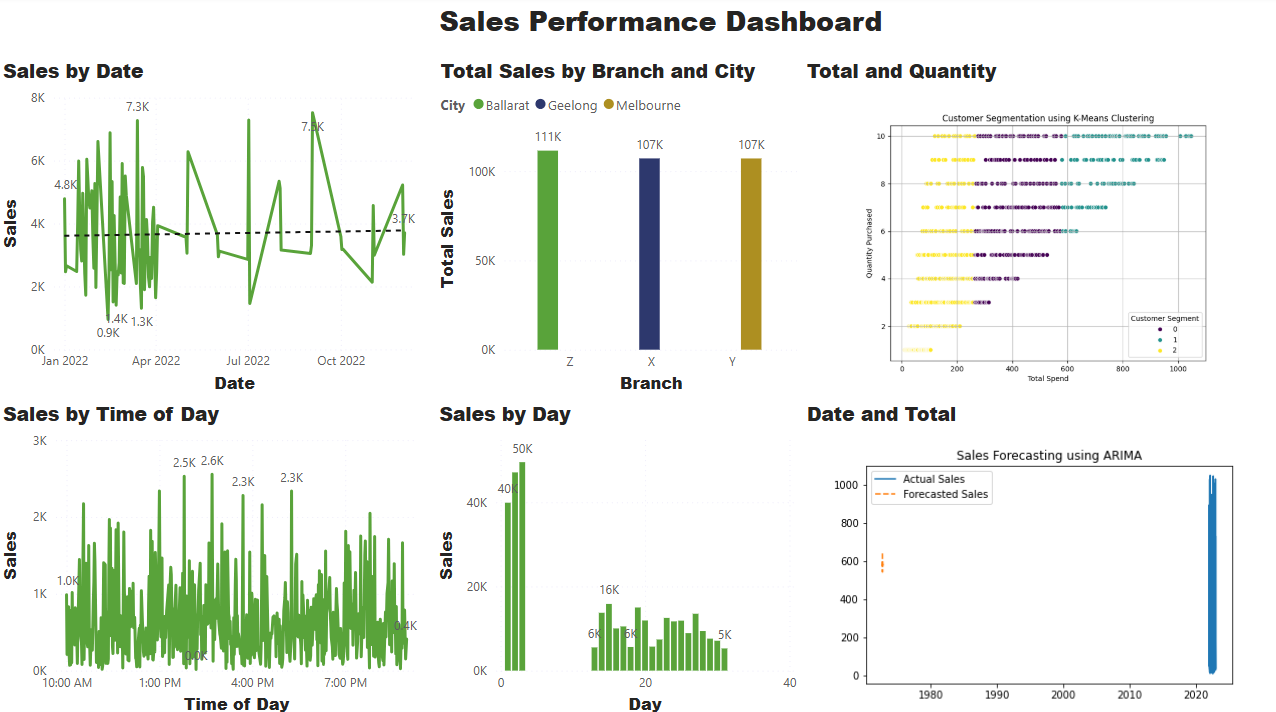

The dashboard page shown, as its layout file describes it:
{"tool":"powerbi","page":{"name":"Sales Performance Dashboard","canvas":[1280,720],"ordinal":0},"visuals":[{"type":"lineChart","fields":{"Category":["RetailStore Dataset.Date"],"Y":["Sum(RetailStore Dataset.Total)"]},"box":[0,61.1,433.9,340.4],"z":0},{"type":"clusteredColumnChart","fields":{"Category":["RetailStore Dataset.Branch"],"Y":["Sum(RetailStore Dataset.Total)"],"Series":["RetailStore Dataset.City"]},"box":[435.1,61.1,365.3,340.4],"z":1000},{"type":"lineChart","fields":{"Category":["RetailStore Dataset.Time.Variation.Date Hierarchy.Year"],"Y":["Sum(RetailStore Dataset.Total)"]},"box":[0,401.5,433.9,319.2],"z":2000},{"type":"columnChart","fields":{"Category":["RetailStore Dataset.Date.Variation.Date Hierarchy.Day"],"Y":["Sum(RetailStore Dataset.Total)"]},"box":[433.9,401.5,366.5,319.2],"z":3000},{"type":"textbox","box":[434.3,0,478.6,61.4],"z":4000},{"type":"pythonVisual","fields":{"Values":["RetailStore Dataset.Date","RetailStore Dataset.Total"]},"box":[800,401.3,480,318.7],"z":5000},{"type":"pythonVisual","fields":{"Values":["RetailStore Dataset.Total","RetailStore Dataset.Quantity"]},"box":[800,61.3,480,340],"z":6000}]}

Visuals, with their boxes in screenshot pixels (x1, y1, x2, y2), scaled from the page's 1280x720 canvas onto the 1276x712 screenshot:
lineChart - RetailStore Dataset.Date x Sum(RetailStore Dataset.Total): <box>0,60,433,397</box>
clusteredColumnChart - RetailStore Dataset.Branch x Sum(RetailStore Dataset.Total): <box>434,60,798,397</box>
lineChart - RetailStore Dataset.Time.Variation.Date Hierarchy.Year x Sum(RetailStore Dataset.Total): <box>0,397,433,711</box>
columnChart - RetailStore Dataset.Date.Variation.Date Hierarchy.Day x Sum(RetailStore Dataset.Total): <box>433,397,798,711</box>
textbox: <box>433,0,910,61</box>
pythonVisual - RetailStore Dataset.Date x RetailStore Dataset.Total: <box>798,397,1275,711</box>
pythonVisual - RetailStore Dataset.Total x RetailStore Dataset.Quantity: <box>798,61,1275,397</box>
